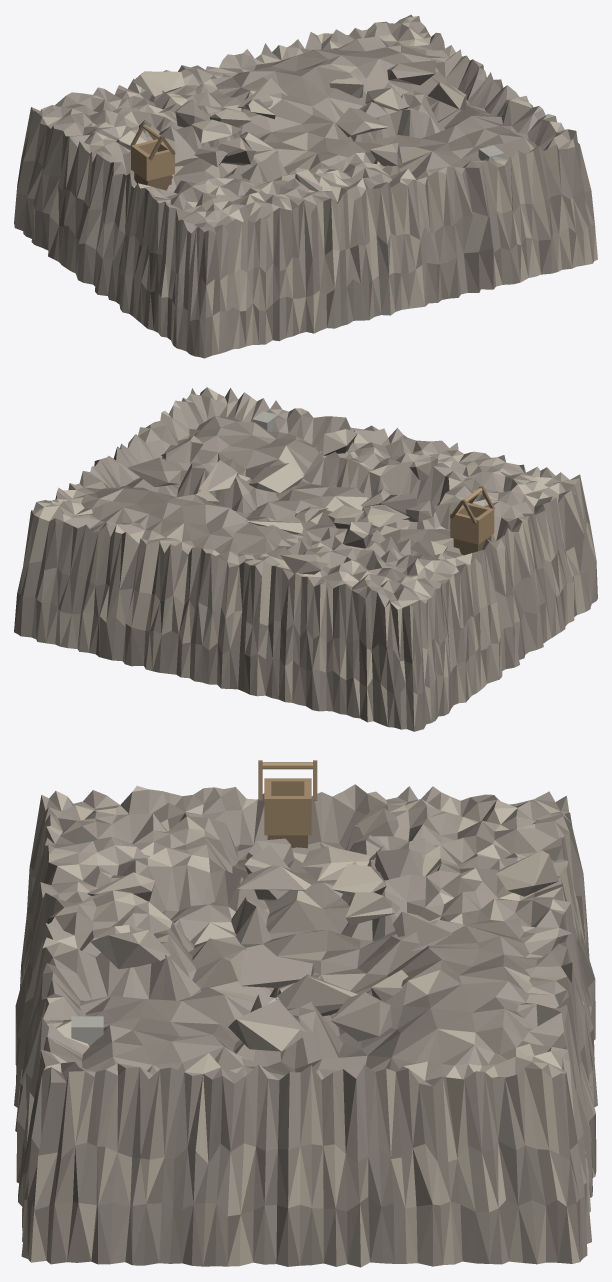
Rendered from cavern.glb.
3 renders of one model, top to bottom at view 1: azimuth 30°, elevation 25°; view 2: azimuth 150°, elevation 25°; view 3: azimuth 270°, elevation 25°, orthographic. The views are drawn at different scales.
Visible parts, largest first — view 1: Cavern_ShellSkin, Cavern_ShellRockTop, Cavern_RoofCeiling, Cavern_RoofBoulders, Cavern_RoofShaftHead, Cavern_ShellPillar; view 2: Cavern_ShellSkin, Cavern_ShellRockTop, Cavern_RoofCeiling, Cavern_RoofBoulders, Cavern_RoofShaftHead; view 3: Cavern_ShellSkin, Cavern_ShellRockTop, Cavern_RoofCeiling, Cavern_RoofBoulders, Cavern_RoofShaftHead, Cavern_ServiceFurnace_Furnace.
Part boxes in pixels (x1,y1,x2,y2): Cavern_ShellSkin: [14, 42, 597, 358]; Cavern_ShellRockTop: [31, 14, 575, 233]; Cavern_RoofCeiling: [133, 36, 543, 192]; Cavern_RoofBoulders: [116, 60, 466, 191]; Cavern_RoofShaftHead: [130, 122, 175, 180]; Cavern_ShellPillar: [329, 77, 363, 98]; Cavern_ShellSkin: [14, 443, 597, 731]; Cavern_ShellRockTop: [31, 387, 579, 609]; Cavern_RoofCeiling: [81, 416, 494, 557]; Cavern_RoofBoulders: [127, 429, 447, 574]; Cavern_RoofShaftHead: [450, 486, 494, 544]; Cavern_ShellSkin: [14, 795, 597, 1267]; Cavern_ShellRockTop: [40, 784, 572, 1086]; Cavern_RoofCeiling: [79, 842, 536, 1079]; Cavern_RoofBoulders: [87, 804, 558, 1051]; Cavern_RoofShaftHead: [258, 760, 317, 835]; Cavern_ServiceFurnace_Furnace: [71, 1016, 103, 1045].
Bounding box in the file's own units: 20.07 × 7.13 × 16.04.
